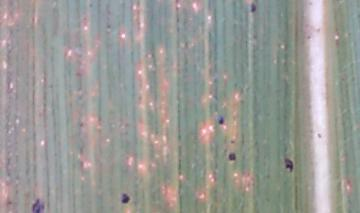tarspot: (30, 197, 45, 213), (282, 155, 294, 174), (119, 191, 131, 205), (227, 151, 236, 163), (216, 115, 225, 126), (249, 1, 257, 13), (104, 23, 112, 32), (315, 130, 322, 140), (228, 138, 236, 146), (77, 121, 85, 129), (305, 33, 312, 42), (86, 2, 95, 9), (5, 199, 13, 206), (307, 1, 314, 8)
